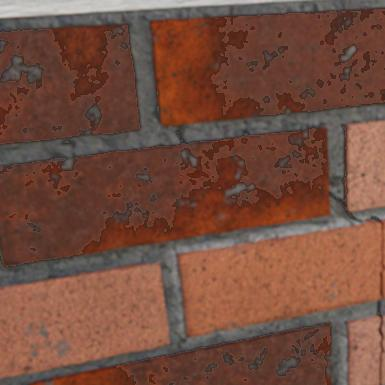brick: (0, 128, 329, 266), (151, 8, 384, 125), (0, 261, 169, 377), (30, 321, 331, 384), (0, 24, 141, 144), (344, 120, 384, 211)
broken_brick: (178, 220, 384, 336), (347, 315, 380, 384), (381, 313, 384, 383), (382, 270, 384, 297)
crack: (329, 177, 382, 232), (376, 299, 383, 384), (379, 234, 384, 297), (341, 124, 344, 137), (343, 146, 344, 161)
